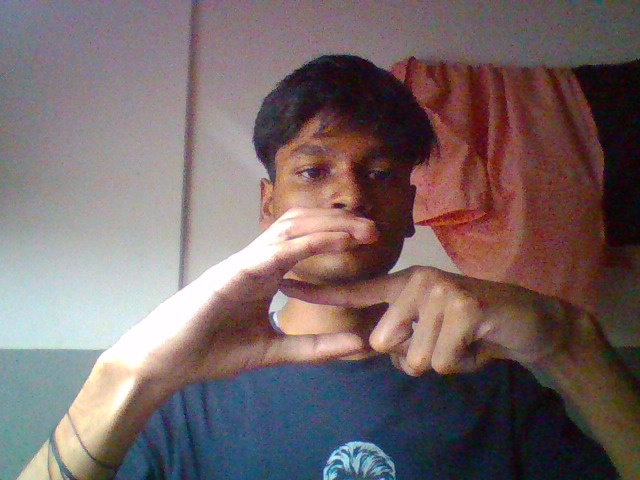E: (99, 202, 597, 412)
